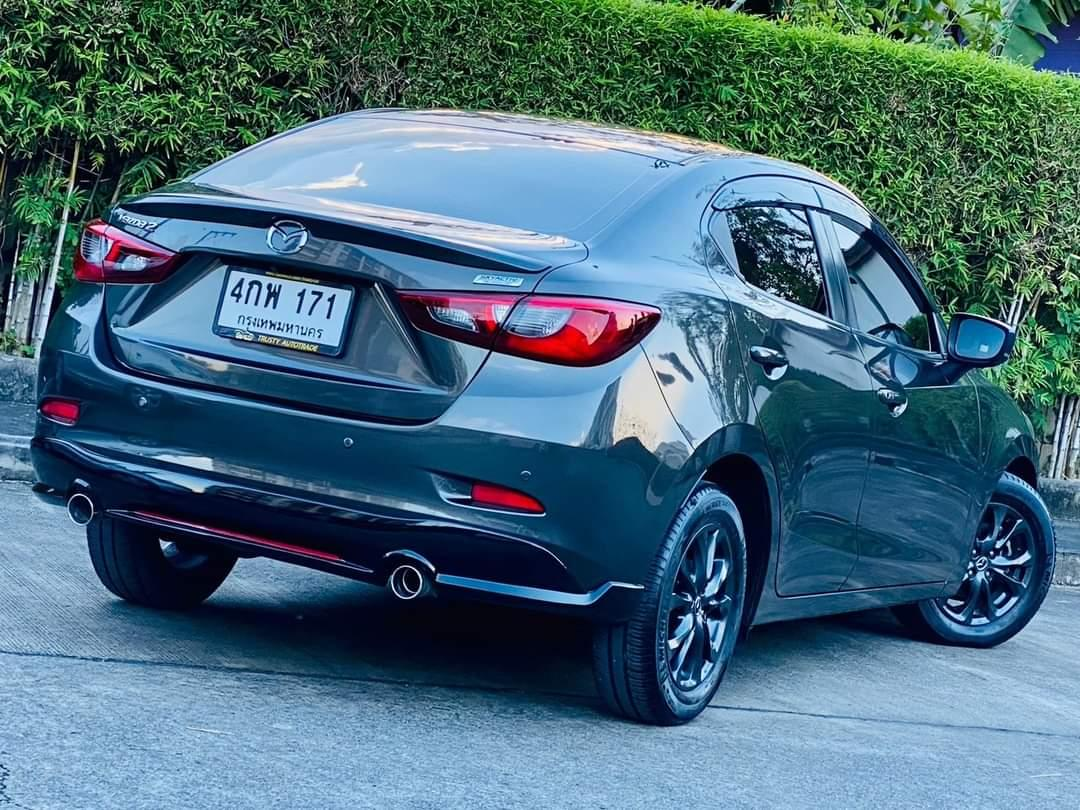license-plate: (209, 258, 365, 364)
